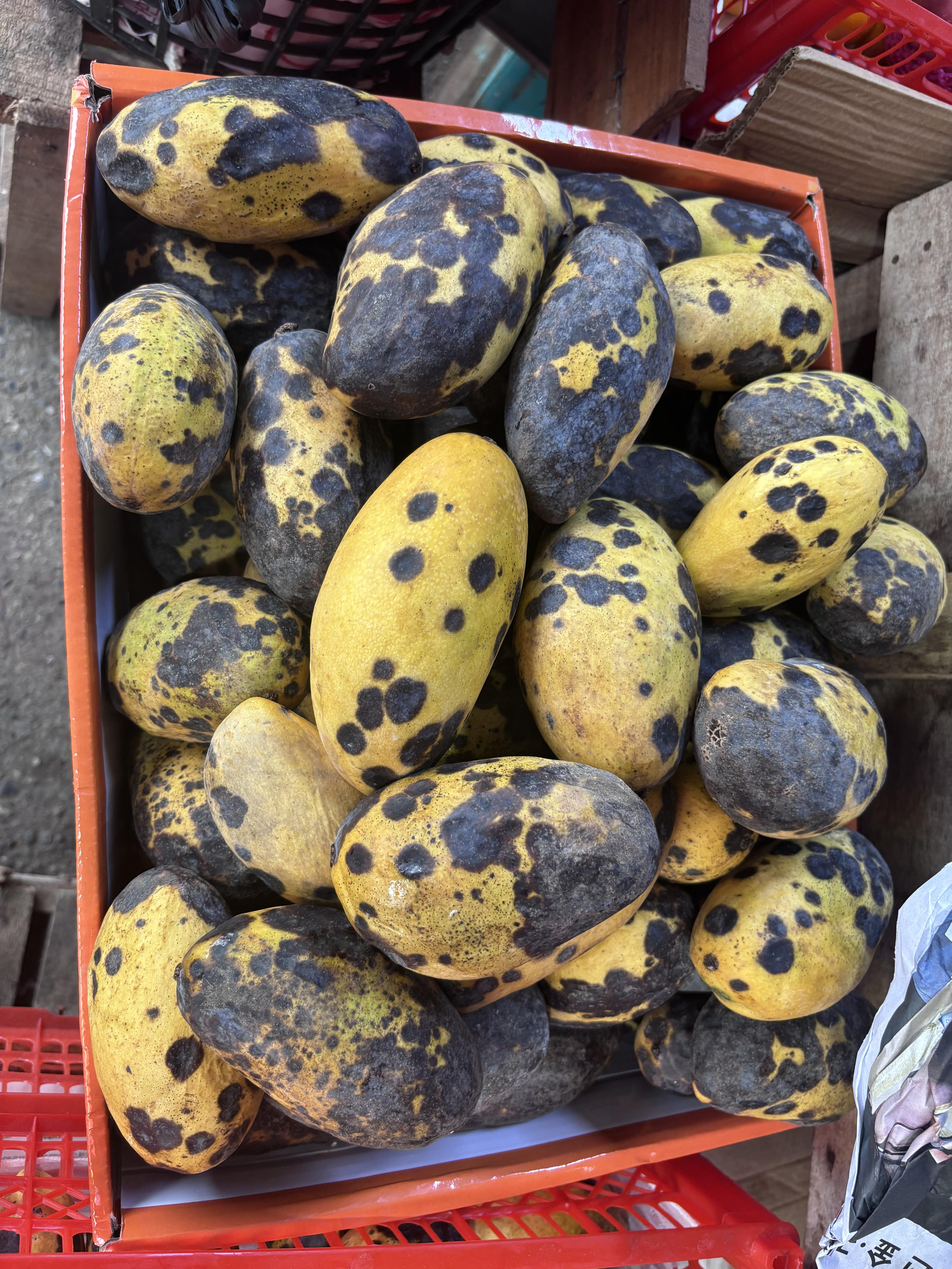mango: (311, 433, 527, 794), (332, 757, 659, 979), (323, 162, 547, 419), (97, 76, 421, 243), (505, 223, 674, 524), (71, 284, 237, 514), (693, 659, 887, 838)
occluded: (177, 905, 482, 1148), (514, 490, 700, 790), (87, 866, 263, 1174), (231, 329, 393, 617), (691, 829, 893, 1020), (678, 435, 887, 618), (103, 217, 337, 365), (107, 577, 309, 744), (204, 697, 363, 905), (715, 370, 928, 507), (130, 732, 278, 911), (691, 993, 874, 1125), (442, 895, 645, 1012), (662, 253, 832, 391), (541, 880, 694, 1025), (806, 516, 947, 657), (420, 132, 571, 239), (470, 1023, 624, 1127), (141, 456, 248, 584), (563, 172, 701, 269), (596, 444, 724, 543), (461, 986, 549, 1121), (661, 764, 758, 883), (698, 609, 833, 691), (682, 197, 818, 268), (634, 994, 706, 1096), (235, 1095, 336, 1154)
